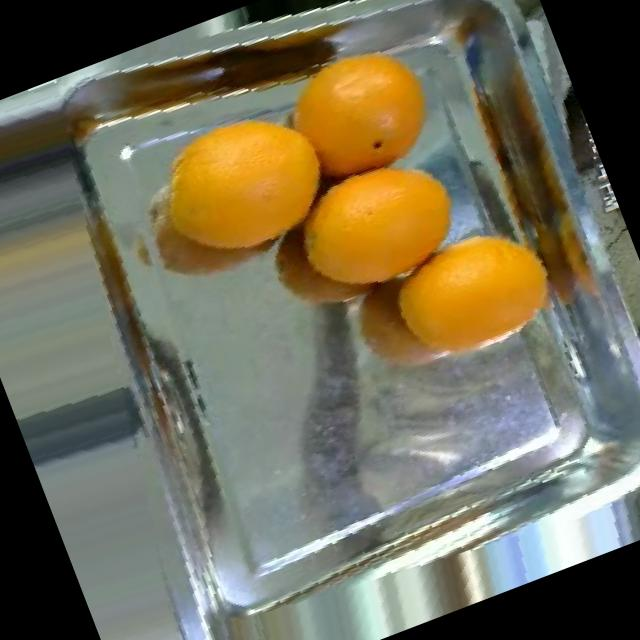Fruit: (108, 86, 366, 311), (252, 122, 498, 334), (354, 206, 588, 398), (243, 26, 465, 218)
